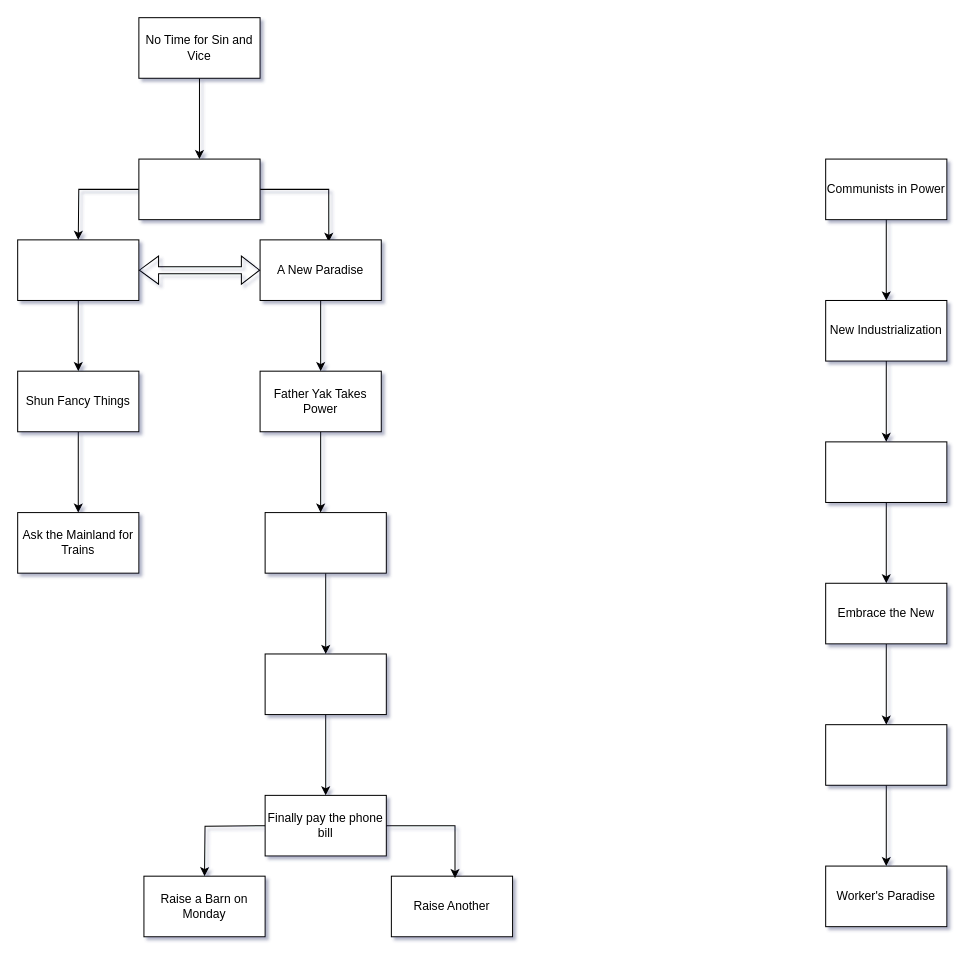
The diagram is 971 pixels wide and 961 high, and some of its shapes have lost their labels. The shapes that lost their labels are listed below. From the top down, each one's centre as x and y in pixels, then its label:
At (199,189): "The Grand Election".
At (78,269): "Maintain the Old Order".
At (886,471): "Abandon the old ways".
At (325,542): "Party Like it's 1699".
At (325,684): "Amish with Tunes (get rid of Demiliterized zone)".
At (886,754): "Tow the Line with Solomon".
